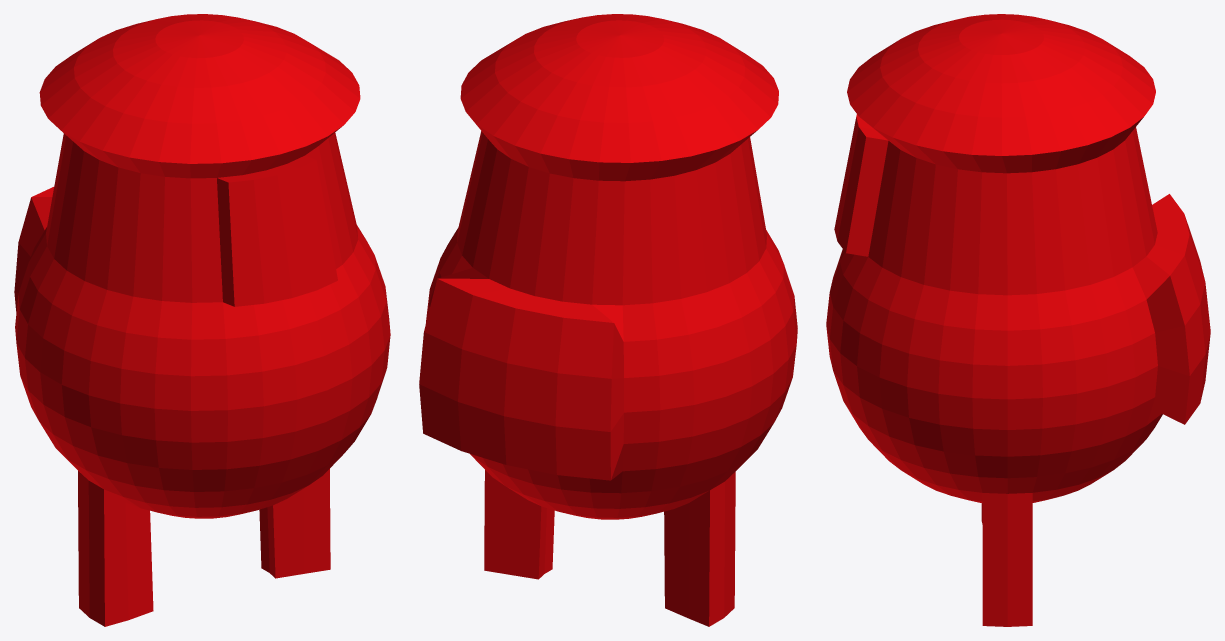
File: Tavuk.fbx
3 renders of one model, left to right at view 1: azimuth 30°, elevation 25°; view 2: azimuth 150°, elevation 25°; view 3: azimuth 270°, elevation 25°, orthographic. The views are drawn at different scales.
Visible parts, largest first — view 1: Sphere; view 2: Sphere; view 3: Sphere.
Part boxes in pixels (bbox=[...]): Sphere: bbox=[14, 14, 390, 626]; Sphere: bbox=[419, 14, 797, 626]; Sphere: bbox=[826, 14, 1210, 626].
Bounding box in the file's own units: 2 × 3.28 × 2.12.
